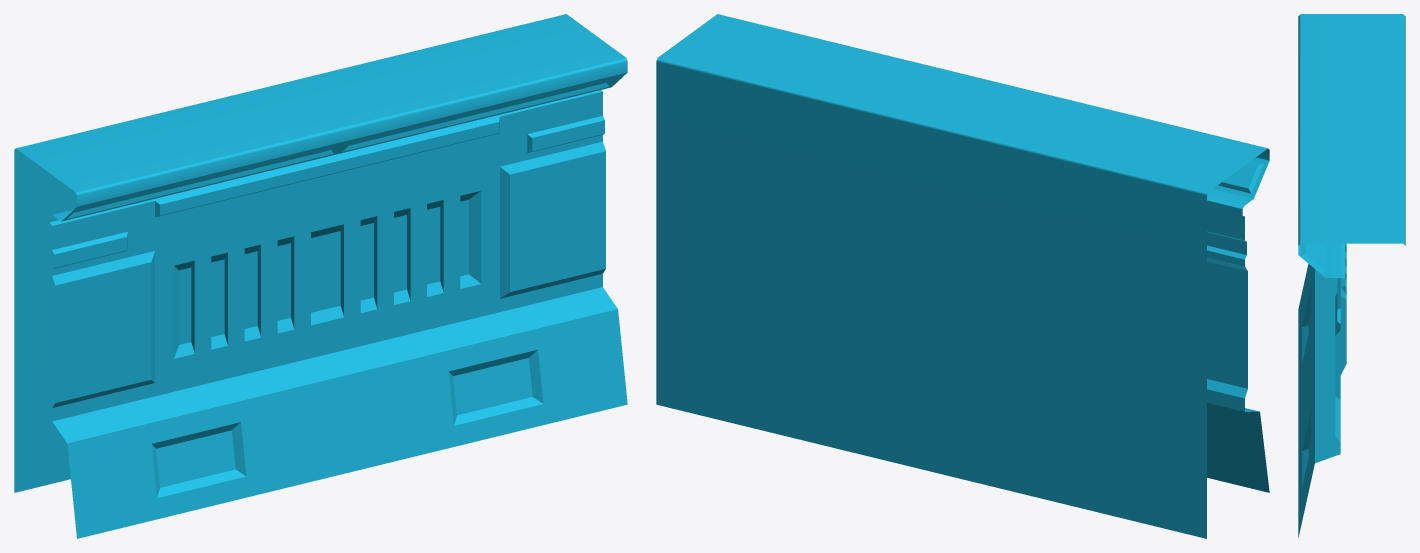
Rendered from SM_Wall_500x300.FBX.
The picture shows the model from 3 angles, left to right: view 1: azimuth 30°, elevation 25°; view 2: azimuth 150°, elevation 25°; view 3: azimuth 270°, elevation 25°; orthographic projection. The views are drawn at different scales.
Visible parts, largest first — view 1: Wall500x300; view 2: Wall500x300; view 3: Wall500x300.
Boxes of the visible parts, x1,y1,x2,y2 form: Wall500x300: [14, 14, 627, 538]; Wall500x300: [656, 14, 1269, 538]; Wall500x300: [1298, 14, 1405, 537].
Size of the model in its own units: 197 by 118 by 38.87.
